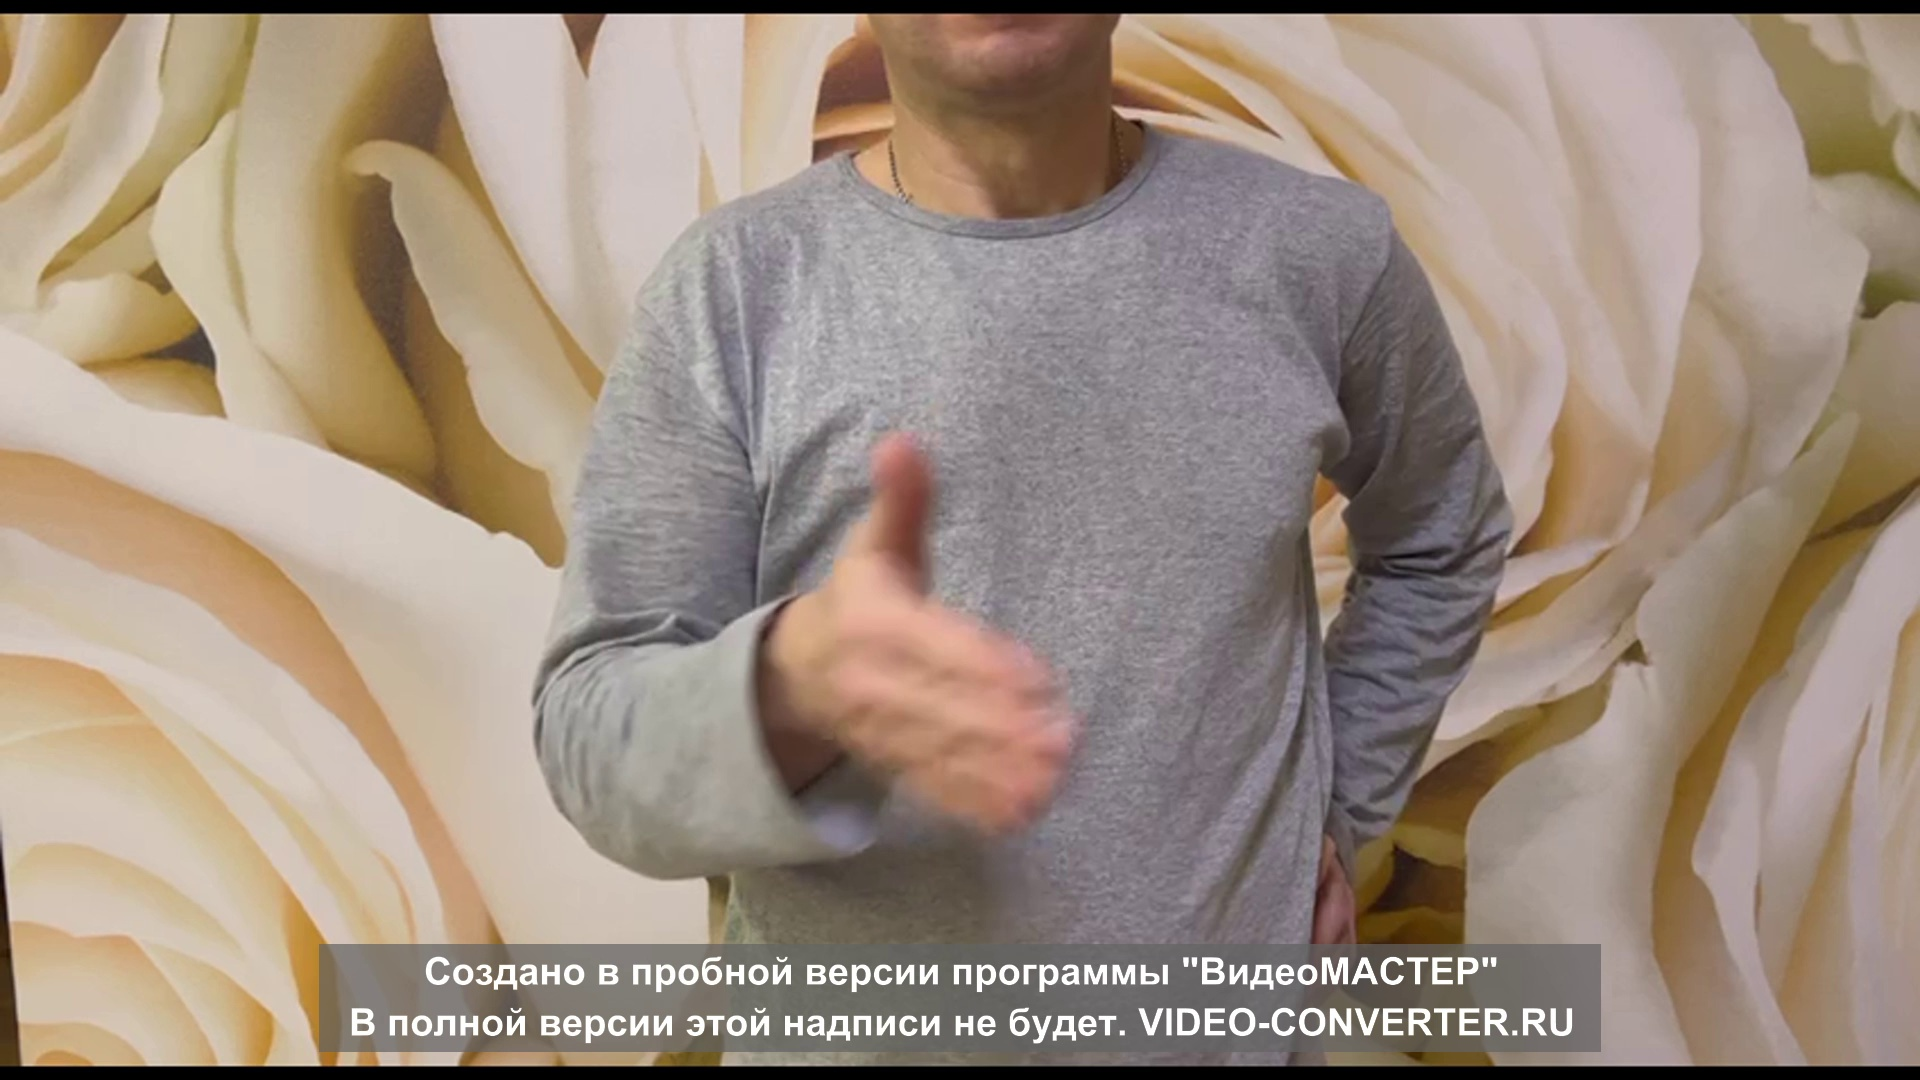Кисть: (770, 439, 1081, 844)
